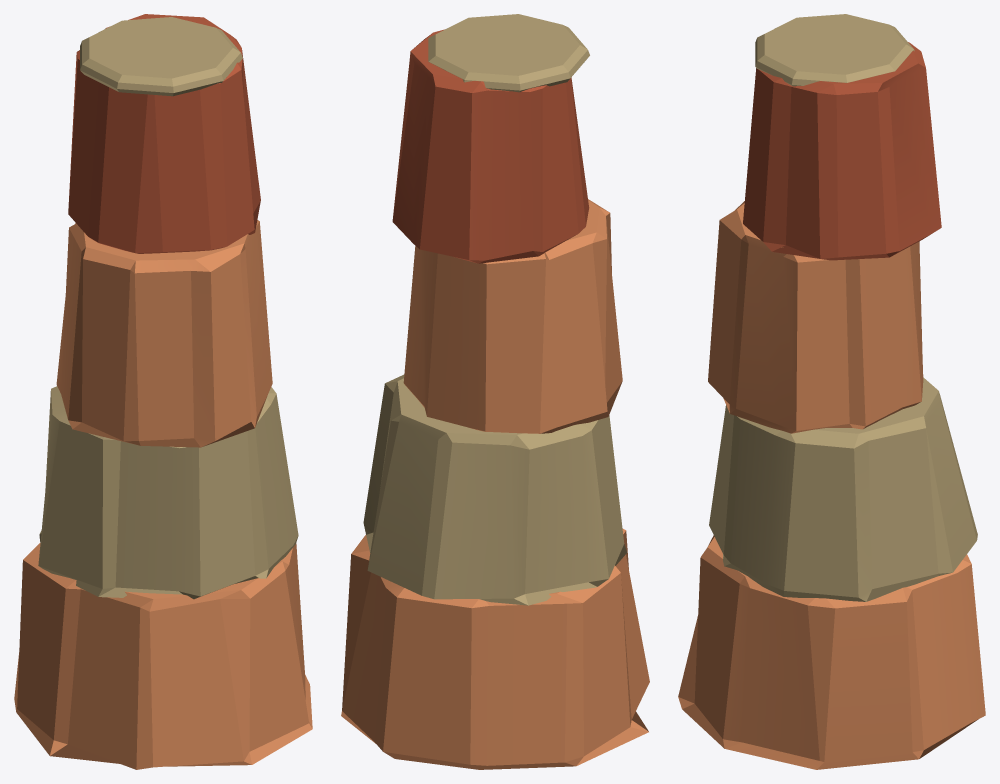
File: Mesa_C.fbx
3 renders of one model, left to right at view 1: azimuth 30°, elevation 25°; view 2: azimuth 150°, elevation 25°; view 3: azimuth 270°, elevation 25°, orthographic.
Parts seen in each view (by area): view 1: Mesa_C; view 2: Mesa_C; view 3: Mesa_C.
Part boxes in pixels (x1=…): Mesa_C: x1=14, y1=14, x2=312, y2=769; Mesa_C: x1=341, y1=14, x2=649, y2=769; Mesa_C: x1=678, y1=14, x2=985, y2=769.
Bounding box in the file's own units: 2.21 × 5.23 × 2.22.
